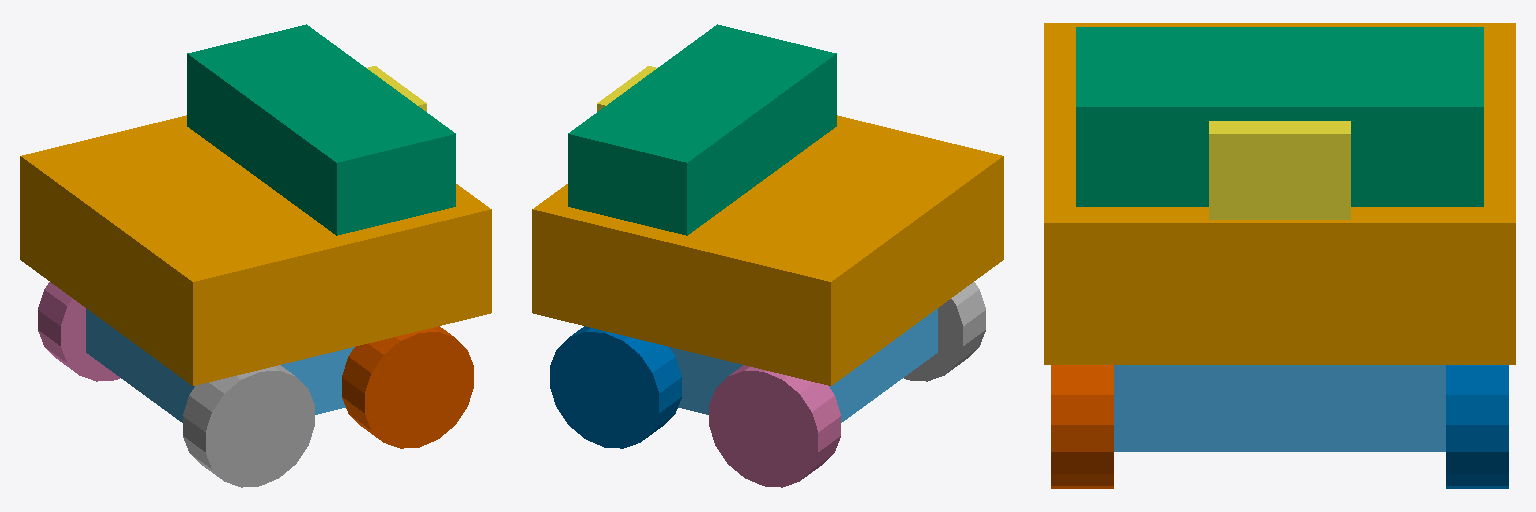
The robot description file, URDF, robot "bot":
<?xml version="1.0"?>
<robot name="bot">
<link name="body">
    <inertial>
        <mass value="3.0"/>
        <origin rpy="0 0 0" xyz="0 0 0.125"/>
        <inertia ixx="0.02882" ixy="0.0" ixz="0.0" iyy="0.02882" iyz="0.0" izz="0.045"/>
    </inertial>
    <visual>
        <origin rpy="-1.57079632675 0 0" xyz="0 0 0.164"/>
        <geometry>
            <mesh filename="bot/cube.obj" scale="0.15 0.05 0.15"/>
        </geometry>
    </visual>
    <collision>
        <origin rpy="0 0 0" xyz="0 0 0.164"/>
        <geometry>
            <box size="0.3 0.3 0.1"/>
        </geometry>
    </collision>
</link>
<link name="motors_fused">
    <visual>
        <origin rpy="-1.57079632675 0 0" xyz="0 0 -0.04"/>
        <geometry>
            <mesh filename="bot/cube.obj" scale="0.11 0.04 0.106"/>
        </geometry>
    </visual>
</link>
<link name="board">
    <visual>
        <origin rpy="-1.57079632675 0 0" xyz="0 0 0.035"/>
        <geometry>
            <mesh filename="bot/cube.obj" scale="0.06 0.035 0.13"/>
        </geometry>
    </visual>
</link>
<link name="sensor">
    <visual>
        <origin rpy="-1.57079632675 0 0" xyz="0.01 0 0"/>
        <geometry>
            <mesh filename="bot/cube.obj" scale="0.01 0.03 0.045"/>
        </geometry>
    </visual>
</link>
<link name="wheel_1_left">
    <inertial>
        <mass value="0.75"/>
        <origin rpy="1.57079632675 0 0" xyz="0 0.02 0.0"/>
        <inertia ixx="0.000667" ixy="0.0" ixz="0.0" iyy="0.000667" iyz="0.0" izz="0.001134"/>
    </inertial>
    <visual>
        <origin rpy="0 0 0" xyz="0 0.02 0"/>
        <geometry>
            <mesh filename="bot/cylinder.obj" scale="0.055 0.04 0.055"/>
        </geometry>
    </visual>
    <collision>
        <origin rpy="1.57079632675 0 0" xyz="0 0.02 0.0"/>
        <geometry>
            <cylinder radius="0.055" length="0.04" />
        </geometry>
    </collision>
</link>
<link name="wheel_2_right">
    <inertial>
        <mass value="0.75"/>
        <origin rpy="1.57079632675 0 0" xyz="0 -0.02 0.0"/>
        <inertia ixx="0.000667" ixy="0.0" ixz="0.0" iyy="0.000667" iyz="0.0" izz="0.001134"/>
    </inertial>
    <visual>
        <origin rpy="0 0 0" xyz="0 -0.02 0"/>
        <geometry>
            <mesh filename="bot/cylinder.obj" scale="0.055 0.04 0.055"/>
        </geometry>
    </visual>
    <collision>
        <origin rpy="1.57079632675 0 0" xyz="0 -0.02 0.0"/>
        <geometry>
            <cylinder radius="0.055" length="0.04"/>
        </geometry>
    </collision>
</link>
<link name="wheel_3_left">
    <inertial>
        <mass value="0.75"/>
        <origin rpy="1.57079632675 0 0" xyz="0 0.02 0.0"/>
        <inertia ixx="0.000667" ixy="0.0" ixz="0.0" iyy="0.000667" iyz="0.0" izz="0.001134"/>
    </inertial>
    <visual>
        <origin rpy="0 0 0" xyz="0 0.02 0"/>
        <geometry>
            <mesh filename="bot/cylinder.obj" scale="0.055 0.04 0.055"/>
        </geometry>
    </visual>
    <collision>
        <origin rpy="1.57079632675 0 0" xyz="0 0.02 0.0"/>
        <geometry>
            <cylinder radius="0.055" length="0.04"/>
        </geometry>
    </collision>
</link>
<link name="wheel_4_right">
    <inertial>
        <mass value="0.75"/>
        <origin rpy="1.57079632675 0 0" xyz="0 -0.02 0.0"/>
        <inertia ixx="0.000667" ixy="0.0" ixz="0.0" iyy="0.000667" iyz="0.0" izz="0.001134"/>
    </inertial>
    <visual>
        <origin rpy="0 0 0" xyz="0 -0.02 0"/>
        <geometry>
            <mesh filename="bot/cylinder.obj" scale="0.055 0.04 0.055"/>
        </geometry>
    </visual>
    <collision>
        <origin rpy="1.57079632675 0 0" xyz="0 -0.02 0.0"/>
        <geometry>
            <cylinder radius="0.055" length="0.04"/>
        </geometry>
    </collision>
</link>
<joint name="body_motors_glue" type="fixed">
    <parent link="body"/>
    <child link="motors_fused"/>
    <origin xyz="0.0 0.0 0.114"/>
</joint>
<joint name="body_board_glue" type="fixed">
    <parent link="body"/>
    <child link="board"/>
    <origin xyz="0.066 0 0.214"/>
</joint>
<joint name="board_sensor_glue" type="fixed">
    <parent link="board"/>
    <child link="sensor"/>
    <origin xyz="0.06 0 0.03"/>
</joint>
<joint name="wheel_1_axis" type="continuous">
    <parent link="body"/>
    <child link="wheel_1_left"/>
    <origin xyz="0.08 0.106 0.055" rpy="0 0 0" />
    <axis xyz="0 1 0" rpy="0 0 0" />
    <dynamics damping="0.0" friction="0.0" />
</joint>
<joint name="wheel_2_axis" type="continuous">
    <parent link="body"/>
    <child link="wheel_2_right"/>
    <origin xyz="0.08 -0.106 0.055" rpy="0 0 0" />
    <axis xyz="0 1 0" rpy="0 0 0" />
    <dynamics damping="0.0" friction="0.0" />
</joint>
<joint name="wheel_3_axis" type="continuous">
    <parent link="body"/>
    <child link="wheel_3_left"/>
    <origin xyz="-0.08 0.106 0.055" rpy="0 0 0" />
    <axis xyz="0 1 0" rpy="0 0 0" />
    <dynamics damping="0.0" friction="0.0" />
</joint>
<joint name="wheel_4_axis" type="continuous">
    <parent link="body"/>
    <child link="wheel_4_right"/>
    <origin xyz="-0.08 -0.106 0.055" rpy="0 0 0" />
    <axis xyz="0 1 0" rpy="0 0 0" />
    <dynamics damping="0.0" friction="0.0" />
</joint>
</robot>

--- Render facts (derived) ---
3 views of the same robot in one strip: view 1: azimuth 30°, elevation 25°; view 2: azimuth 150°, elevation 25°; view 3: azimuth 270°, elevation 25° (orthographic).
Robot: bot — 8 links, 7 joints (4 continuous, 3 fixed); root link body; default pose: every joint at zero.
Visible links, largest first — view 1: body, board, wheel_4_right, wheel_2_right, motors_fused, wheel_3_left; view 2: body, board, wheel_3_left, wheel_1_left, motors_fused, wheel_4_right; view 3: body, board, motors_fused, sensor, wheel_1_left, wheel_2_right.
Boxes of the visible links, left/top/right/bottom form: body: left=20, top=115, right=491, bottom=385; board: left=187, top=24, right=455, bottom=235; wheel_4_right: left=183, top=365, right=314, bottom=487; wheel_2_right: left=342, top=326, right=473, bottom=448; motors_fused: left=86, top=308, right=354, bottom=422; wheel_3_left: left=38, top=282, right=119, bottom=381; body: left=532, top=115, right=1003, bottom=385; board: left=568, top=24, right=836, bottom=235; wheel_3_left: left=709, top=365, right=840, bottom=487; wheel_1_left: left=550, top=326, right=681, bottom=448; motors_fused: left=669, top=308, right=937, bottom=422; wheel_4_right: left=904, top=282, right=985, bottom=381; body: left=1044, top=23, right=1515, bottom=364; board: left=1076, top=27, right=1483, bottom=206; motors_fused: left=1114, top=365, right=1445, bottom=451; sensor: left=1209, top=121, right=1350, bottom=219; wheel_1_left: left=1446, top=365, right=1508, bottom=488; wheel_2_right: left=1051, top=365, right=1113, bottom=488.
Size in the robot's own frame: 0.3 by 0.3 by 0.284 metres.
8 mesh visuals loaded from 2 distinct referenced files (2 OBJ).
